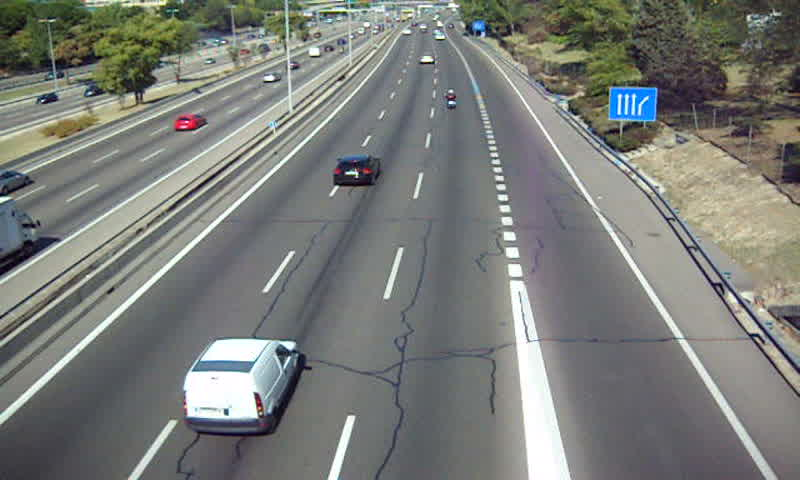car: (334, 154, 381, 186), (418, 54, 435, 66)
motorcycle: (443, 89, 460, 111)
van: (185, 340, 302, 431)
